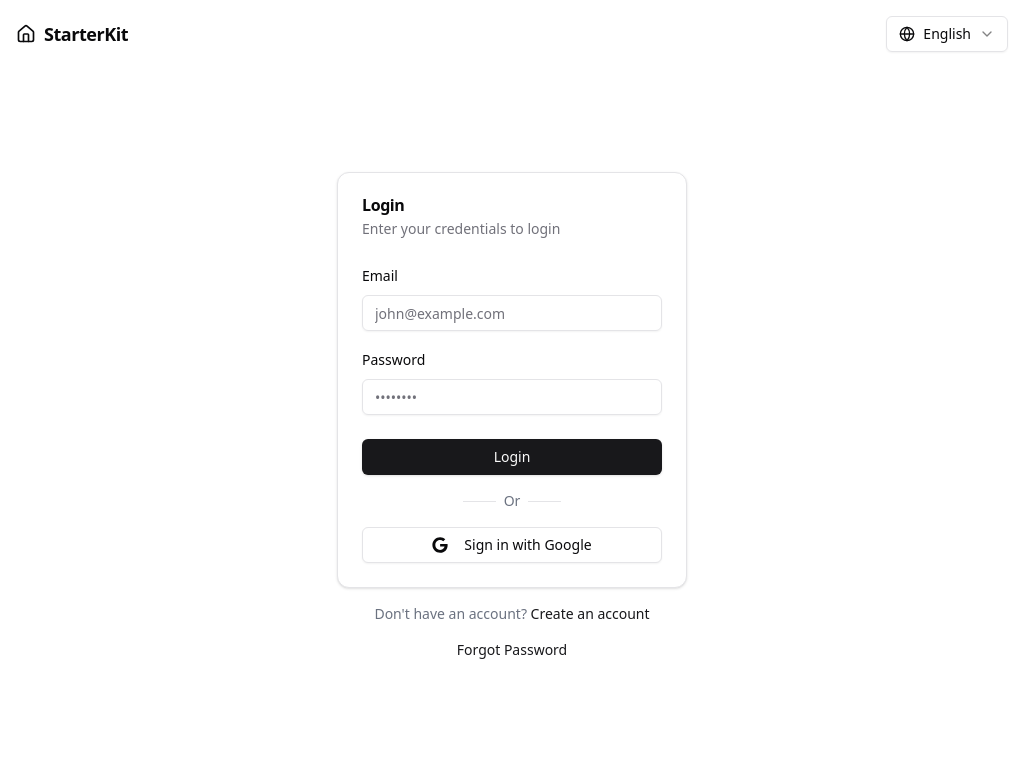
AuthPage › allows user to switch between login and register forms
This screenshot has width=1024, height=768.
Check: the field labelled "Email" is shown, box top-left (362, 295), bottom-right (662, 331)
Check: the password field labelled "Password" is shown, box top-left (362, 379), bottom-right (662, 415)
Click the button "Create an account": (590, 614) top-left (531, 604), bottom-right (650, 624)
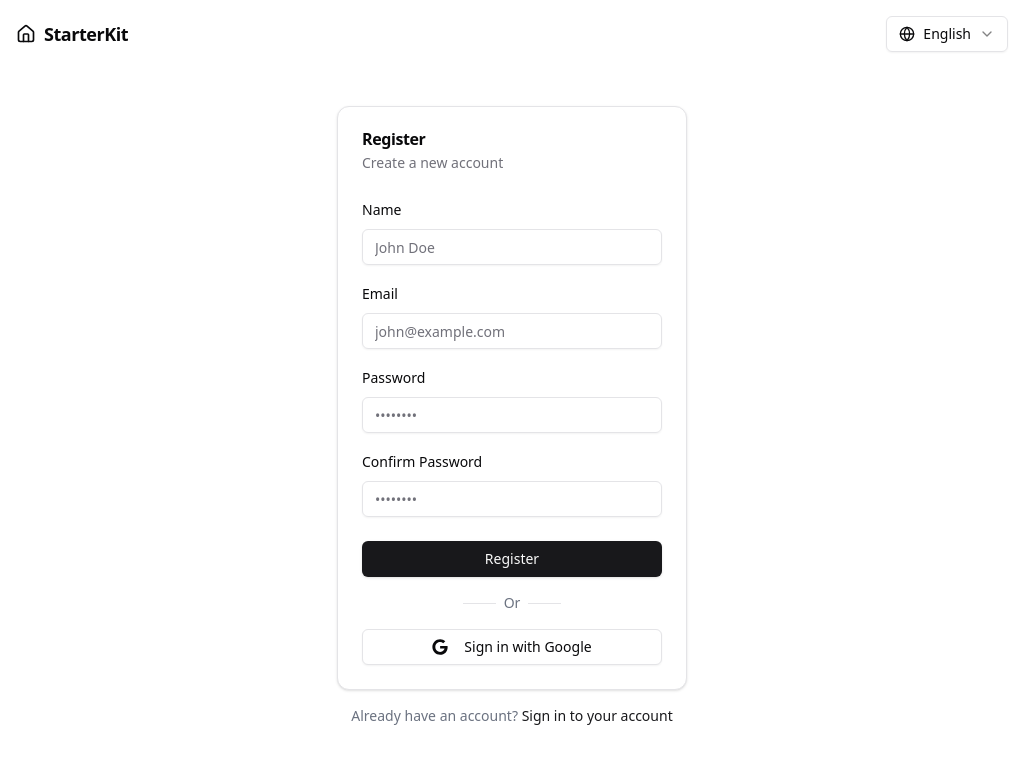
Check: the field labelled "Name" is shown, box top-left (362, 229), bottom-right (662, 265)
Check: the password field labelled "Password" is shown, box top-left (362, 397), bottom-right (662, 433)
Check: the password field labelled "Confirm Password" is shown, box top-left (362, 481), bottom-right (662, 517)
